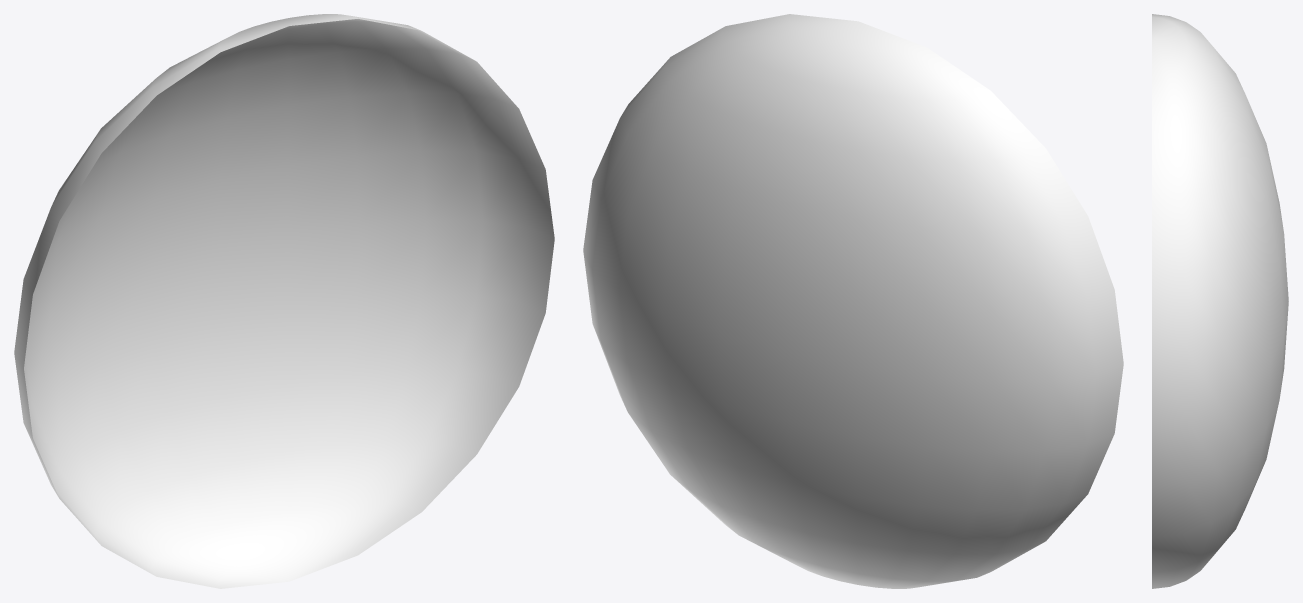
The picture shows the model from 3 angles, left to right: view 1: azimuth 30°, elevation 25°; view 2: azimuth 150°, elevation 25°; view 3: azimuth 270°, elevation 25°; orthographic projection. The views are drawn at different scales.
Visible parts, largest first — view 1: Li; view 2: Li; view 3: Li.
Part boxes in pixels (x1,y1,x2,y2): Li: (14, 14, 554, 588); Li: (583, 14, 1123, 588); Li: (1152, 14, 1288, 588).
Size of the model in its own units: 11.08 by 11.08 by 2.62.
Materials: 1 (1 with a texture image).
